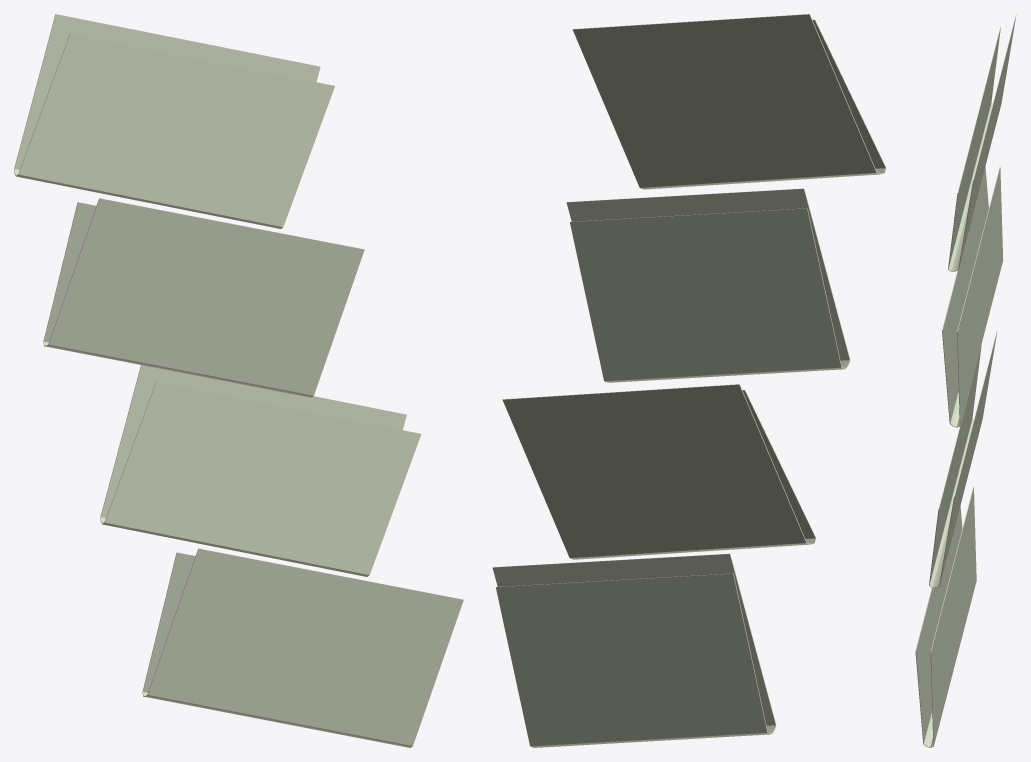
Rendered from Jimat.fbx.
3 renders of one model, left to right at view 1: azimuth 30°, elevation 25°; view 2: azimuth 150°, elevation 25°; view 3: azimuth 270°, elevation 25°, orthographic. The views are drawn at different scales.
Parts seen in each view (by area): view 1: jimat; view 2: jimat; view 3: jimat.
Boxes of the visible parts, x1,y1,x2,y2 form: jimat: (14,14,463,747); jimat: (492,14,886,747); jimat: (915,14,1016,747).
Size of the model in its own units: 95.75 by 176 by 26.16.
